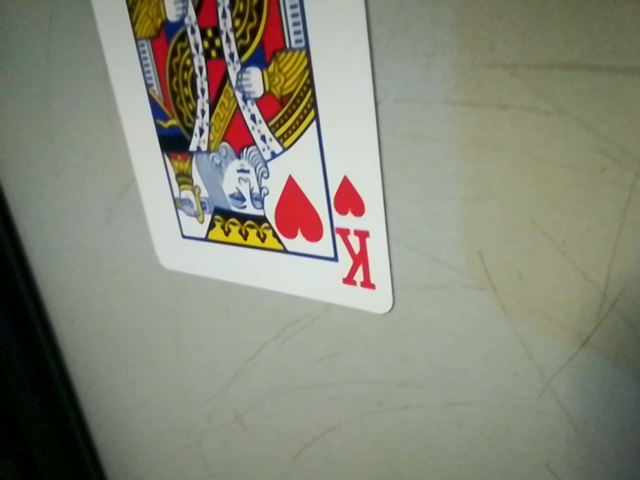hx k: (326, 166, 388, 304)
